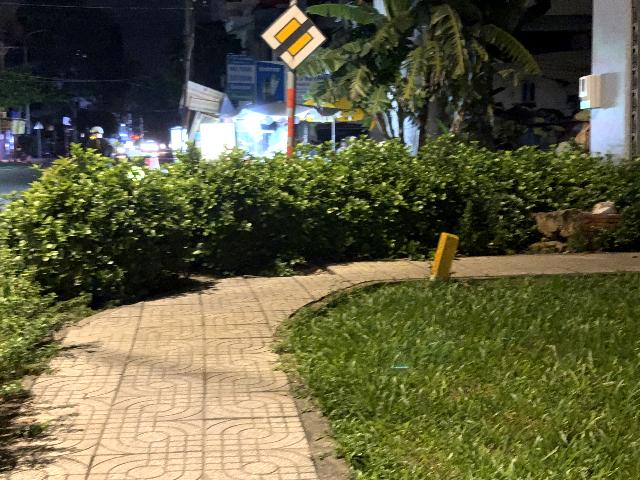het-duong-uu-tien: (260, 2, 328, 71)
